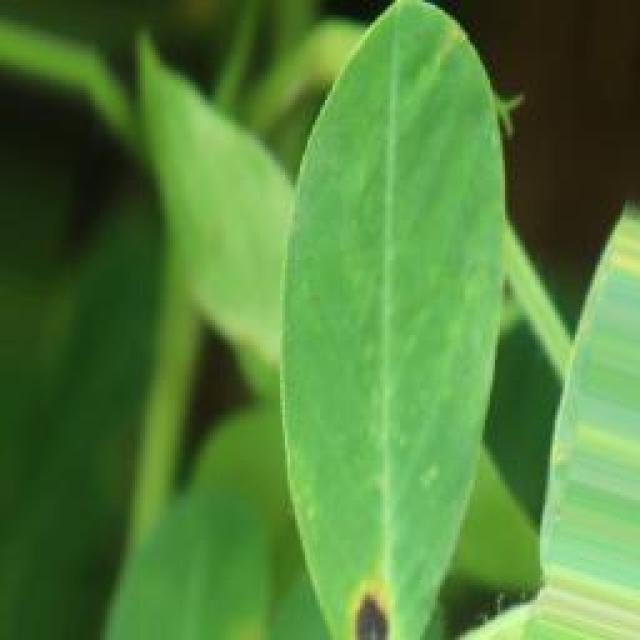Sigatoka: (302, 548, 411, 640)
